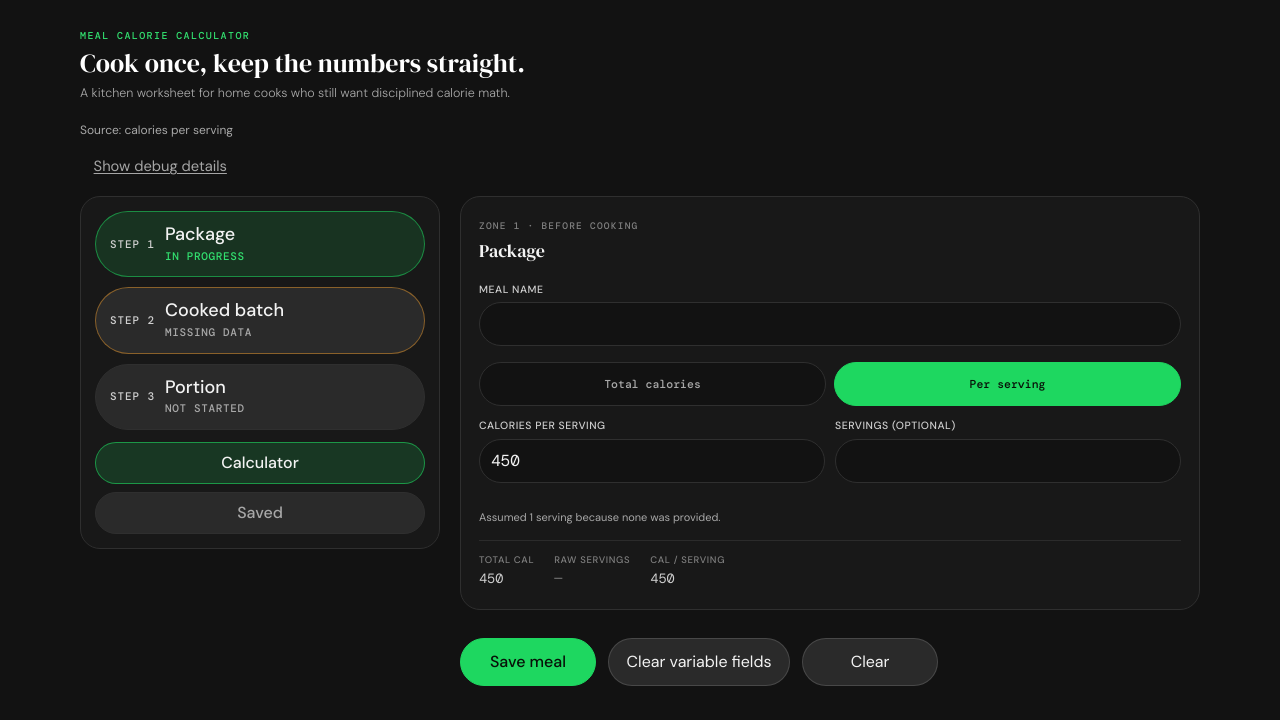
Test case: ZoneLayout › shows per-serving assumption note in Zone 1 when servings are not provided
This screenshot has width=1280, height=720.
expect the text "Assumed 1 serving because none was provided." is shown: met, box [479,510,721,524]
Click the button "Step 3 Portion Not started" at (132, 396), box [95,364,425,430]
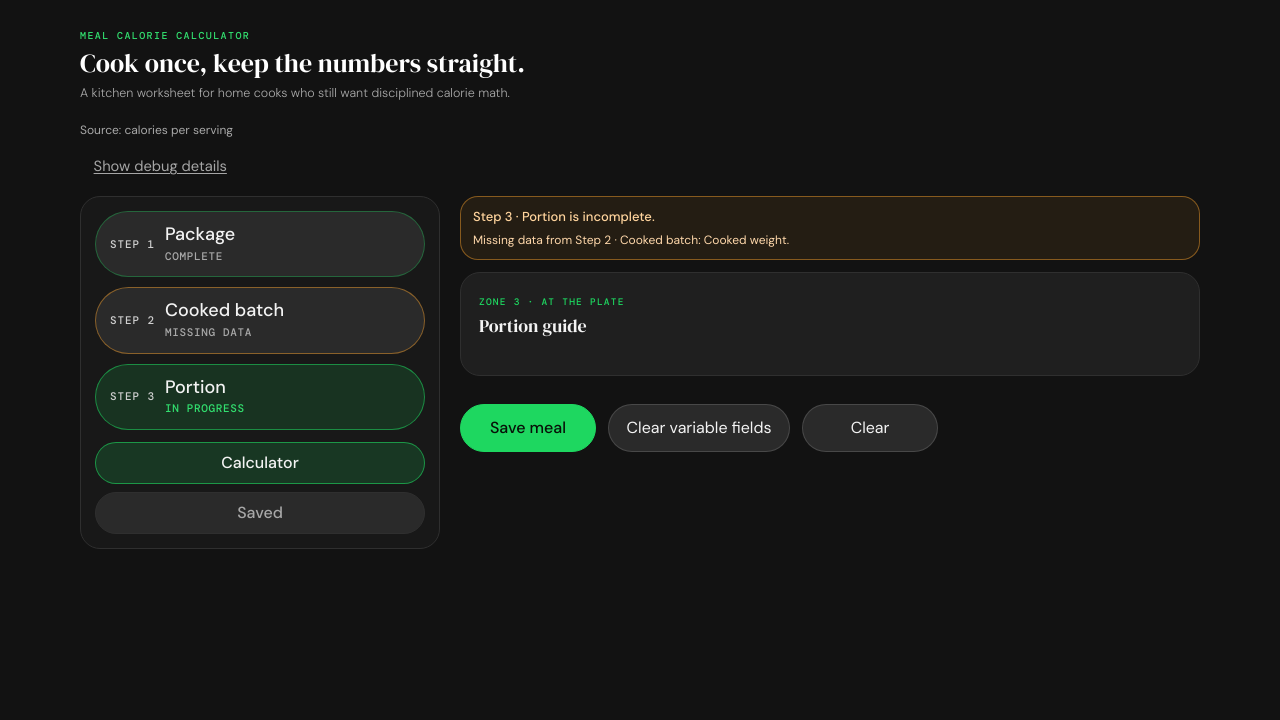
expect the text "Assumed 1 serving because none was provided." is gone: met
